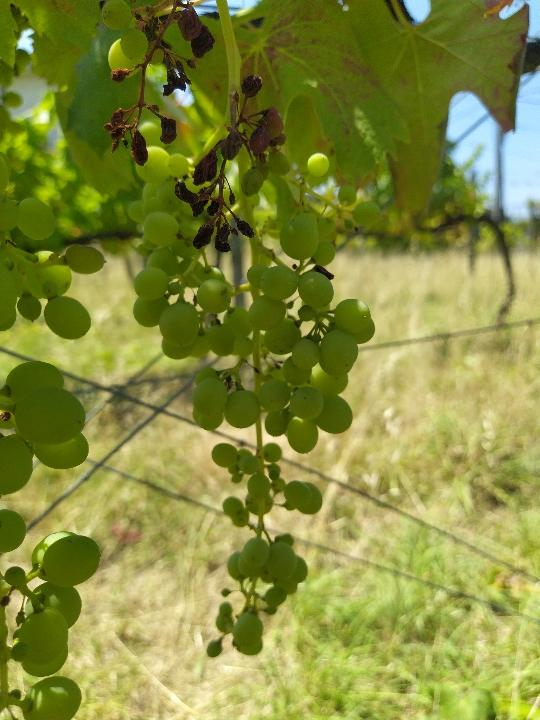grape: (124, 123, 382, 666), (101, 1, 289, 258)
